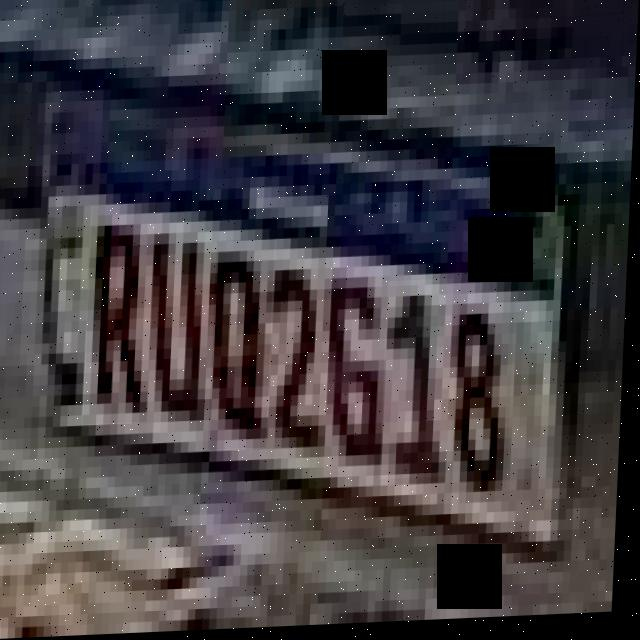1: (384, 283, 457, 483)
8: (454, 306, 518, 496)
G: (325, 267, 400, 476)
Q: (212, 241, 277, 452)
R: (87, 204, 159, 425)
U: (151, 216, 216, 428)
